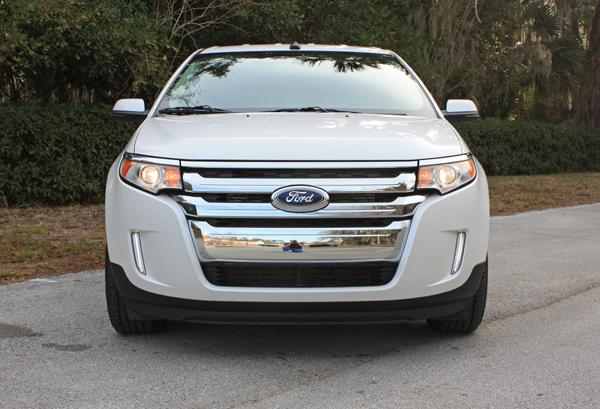car: (101, 47, 493, 344)
